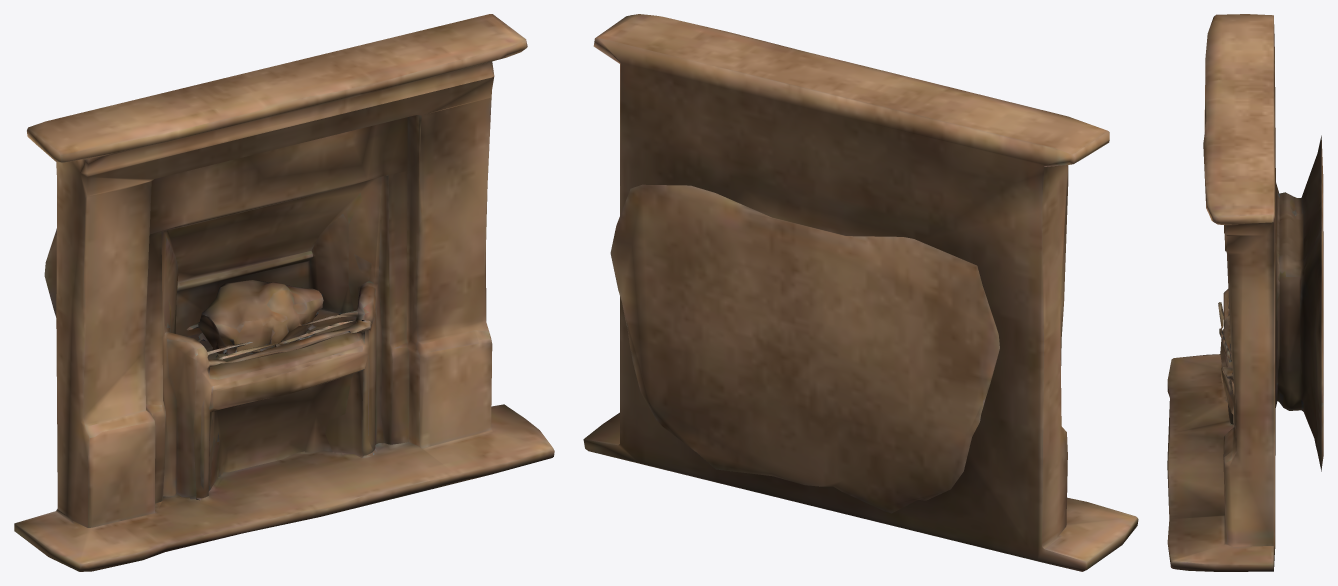
File: simple-sandstone-fireplace-v002.glb
3 views of the same model, side by side, from view 1: azimuth 30°, elevation 25°; view 2: azimuth 150°, elevation 25°; view 3: azimuth 270°, elevation 25° (orthographic). The views are drawn at different scales.
Visible parts, largest first — view 1: simple-sandstone-fireplace; view 2: simple-sandstone-fireplace; view 3: simple-sandstone-fireplace.
Part boxes in pixels (left/top/right/bottom): simple-sandstone-fireplace: left=14, top=14, right=554, bottom=571; simple-sandstone-fireplace: left=583, top=14, right=1138, bottom=571; simple-sandstone-fireplace: left=1167, top=14, right=1323, bottom=571.
Size of the model in its own units: 2.01 by 1.59 by 0.6291.
1 material, 1 textured.
